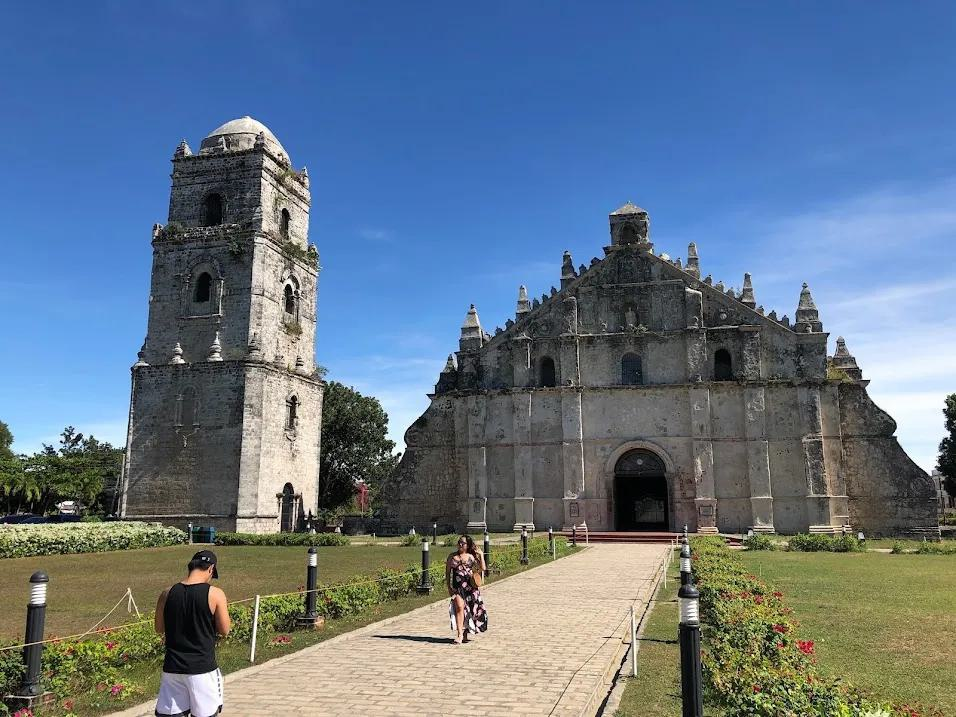paoay_church_paoay_ilocos_norte: (114, 98, 940, 554)
